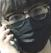with_mask: (1, 1, 51, 53)
